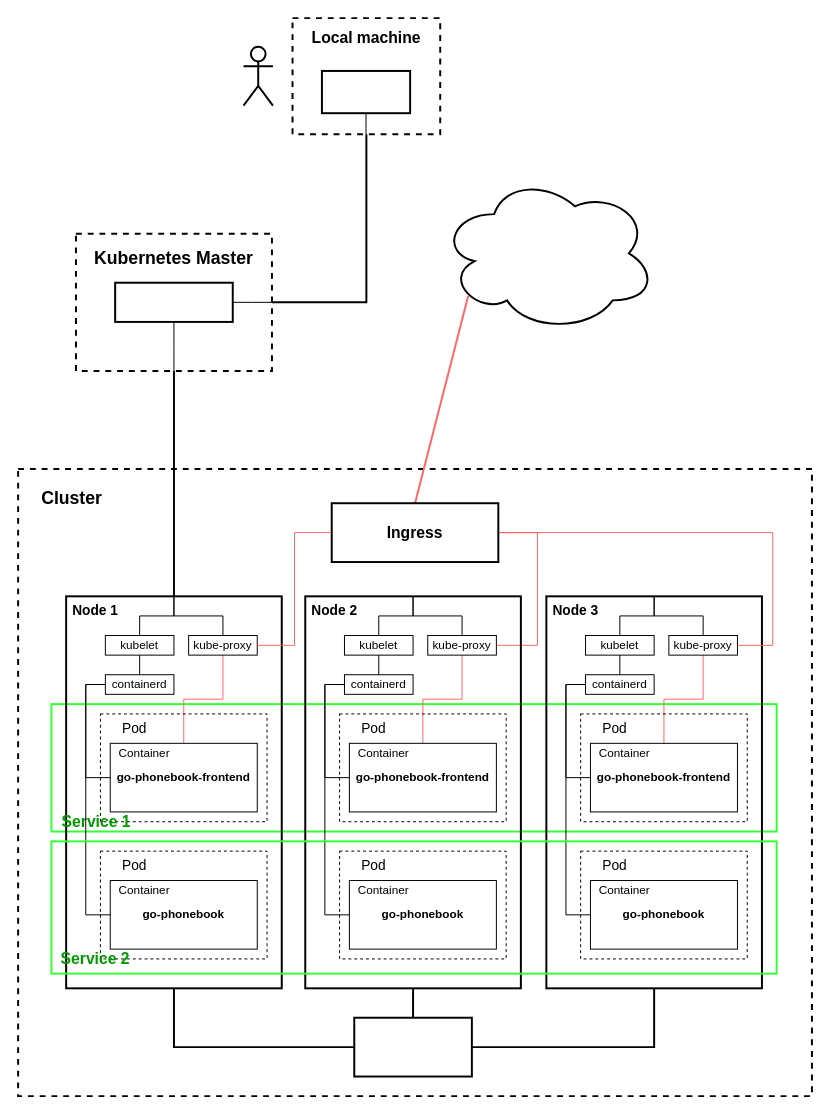
The diagram is 829 pixels wide and 1113 high, and some of its shapes have lost their labels. Each missing label, with the box of its shape:
Actor: (242, 45, 273, 106)
Incoming request: (439, 173, 656, 332)
kube-apiserver: (114, 281, 233, 322)
kubectl: (320, 69, 411, 114)
Volume: (353, 1016, 472, 1077)
